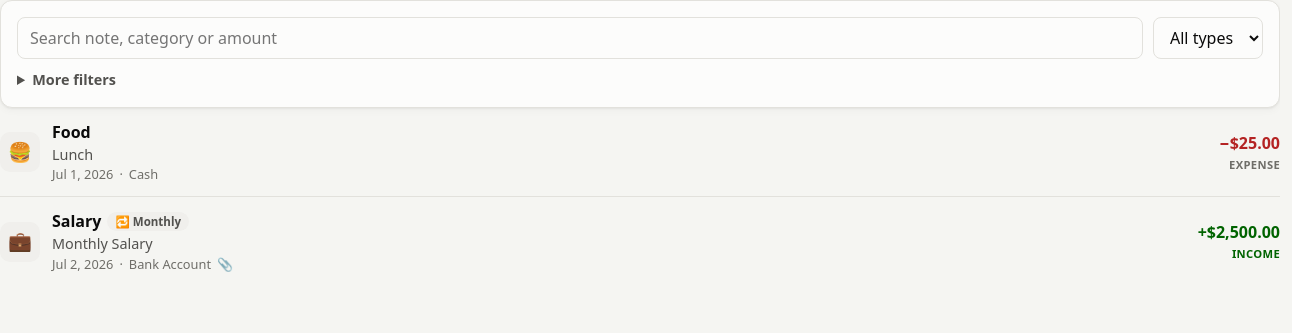
Test: TransactionFilters › clears all filters
Type "rent" into the search field with placeholder "Search note, category or amount".
click(580, 38); type("rent")  # box [17,17,1143,59]
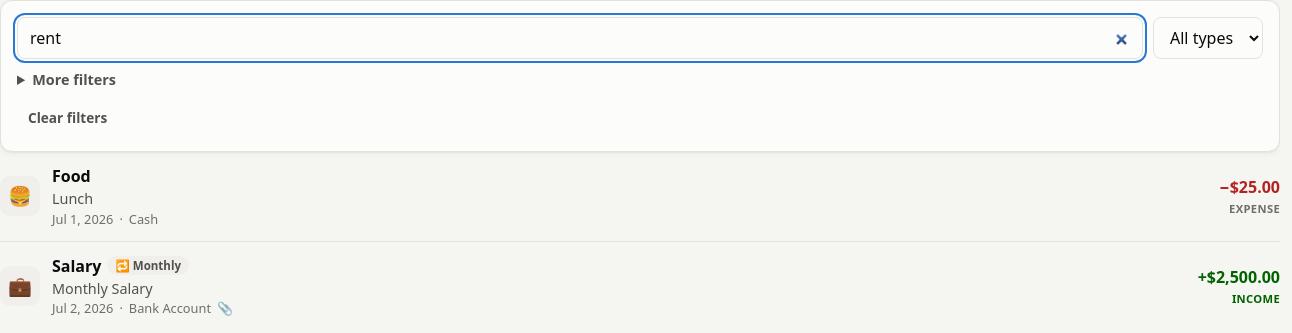
Select "Expense" in the dropdown named "Type" at (1208,38), box [1153,17,1263,59]
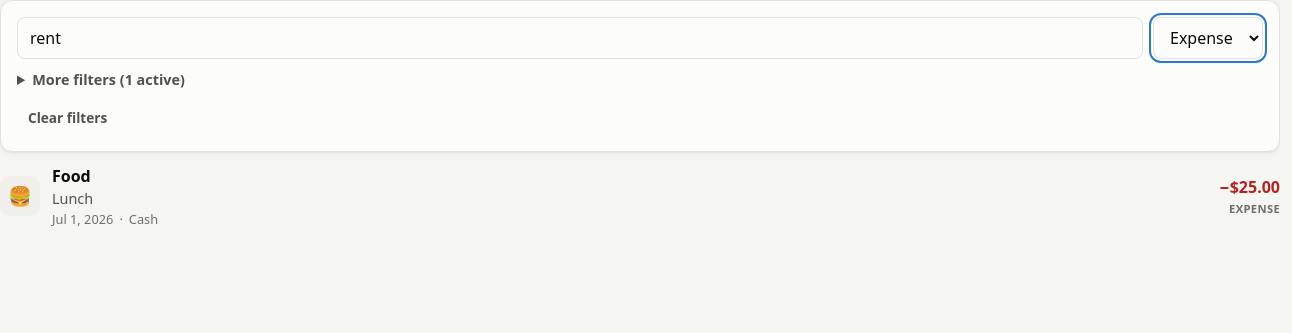
Click the button "Clear filters".
click(68, 118)  # box [17,101,118,135]
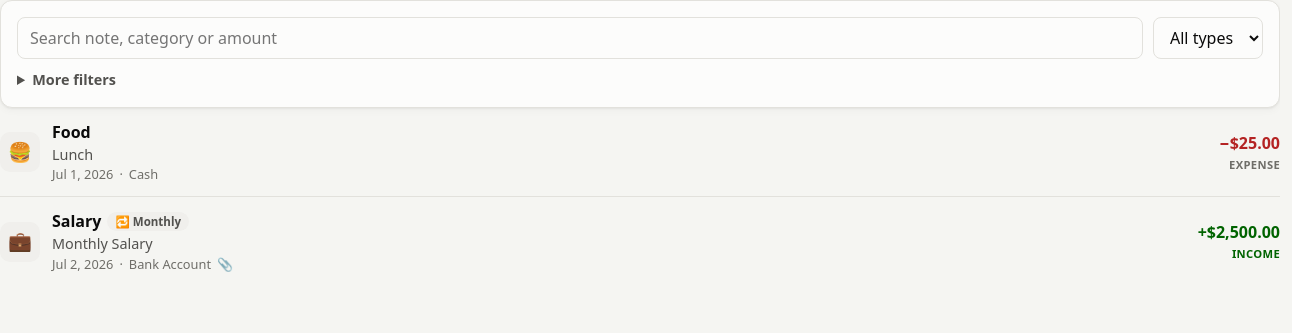
Expected: the number of list items is 2, [0,108,1280,197]; [0,197,1280,286]
